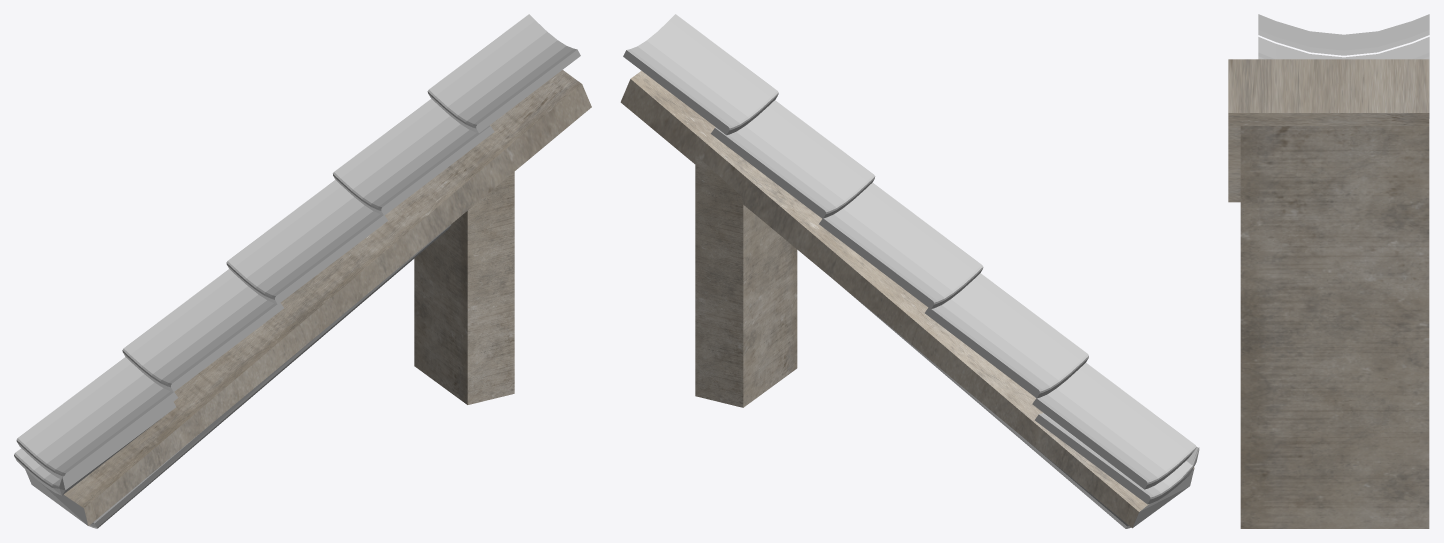
Rendered from SM_Roof_61.fbx.
3 renders of one model, left to right at view 1: azimuth 30°, elevation 25°; view 2: azimuth 150°, elevation 25°; view 3: azimuth 270°, elevation 25°, orthographic. The views are drawn at different scales.
Parts seen in each view (by area): view 1: SM_Roof_61; view 2: SM_Roof_61; view 3: SM_Roof_61.
Part boxes in pixels (x1,y1,x2,y2): SM_Roof_61: (14, 14, 591, 528); SM_Roof_61: (620, 14, 1199, 528); SM_Roof_61: (1228, 14, 1429, 528).
Bounding box in the file's own units: 226 × 42.56 × 156.
